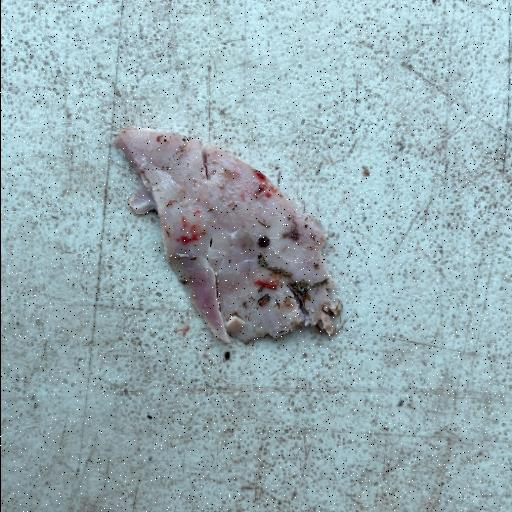Waste: (112, 125, 344, 347)
